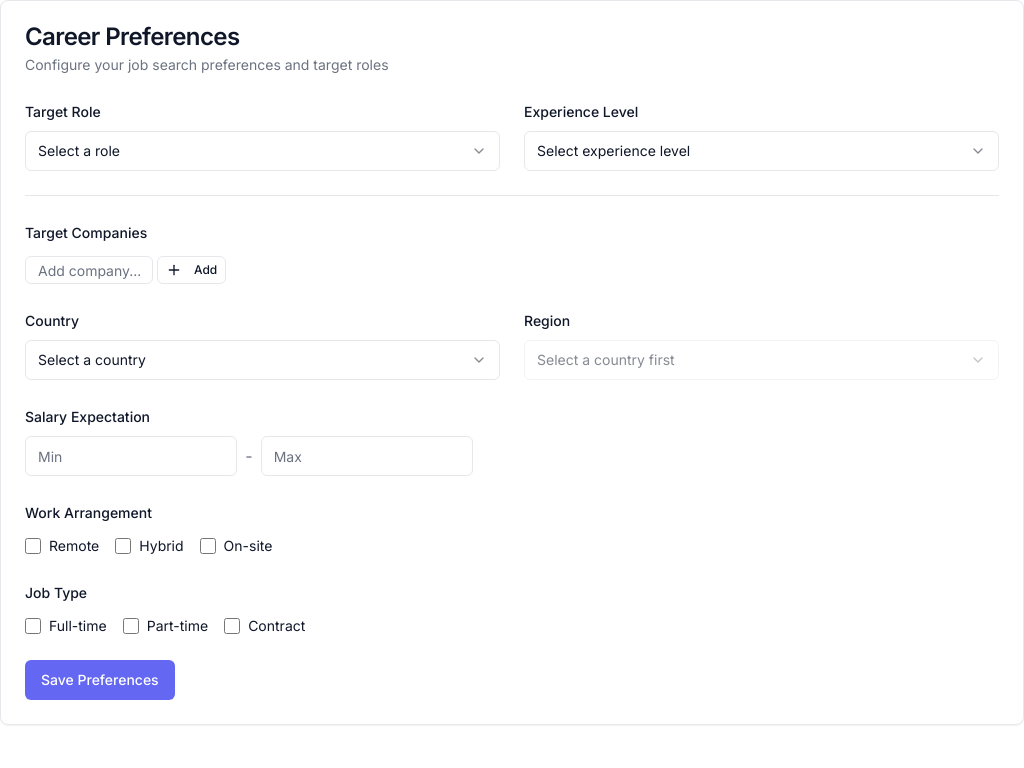
it: CareerPreferencesTab - salary validation › should show an error when salaryMin exceeds salaryMax
Type "90000" into the number field with placeholder "Min".
click(131, 456); type("90000")  # box [25,436,237,476]
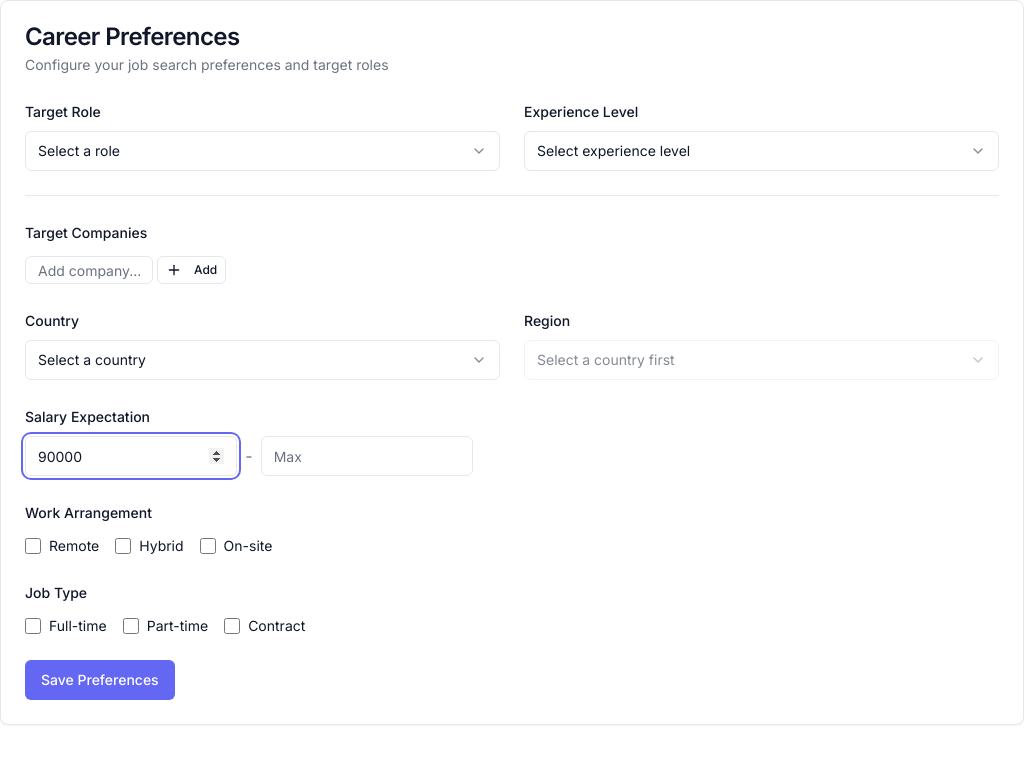
Type "50000" into the number field with placeholder "Max".
click(367, 456); type("50000")  # box [261,436,473,476]
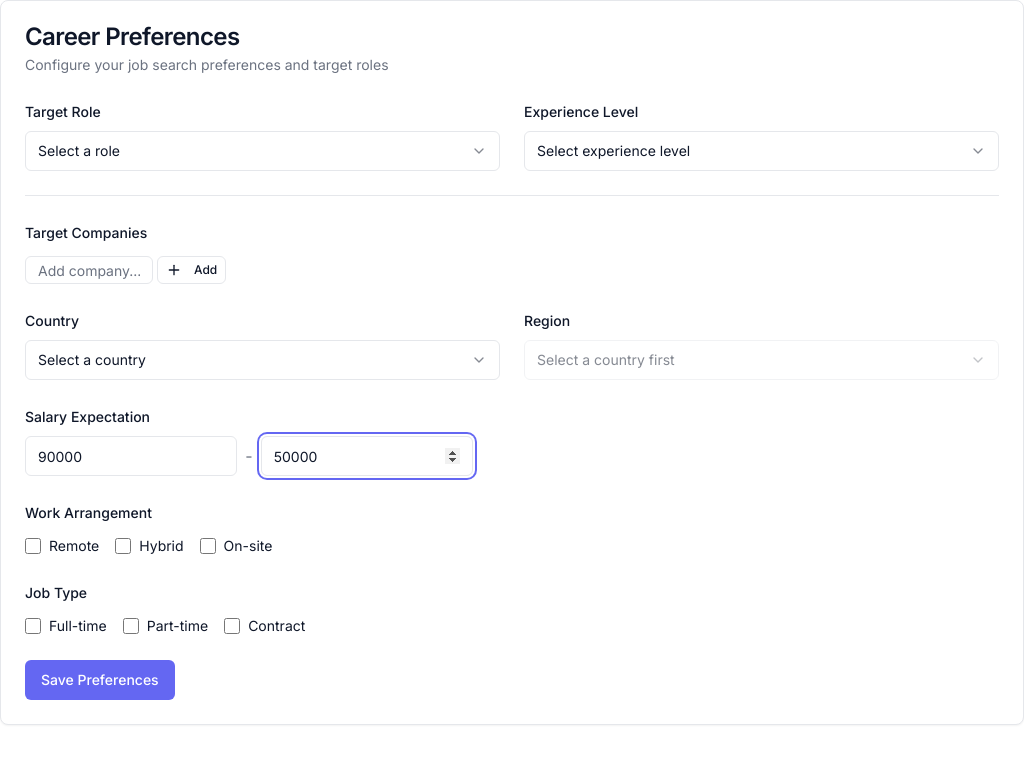
Click the button "Save Preferences".
click(100, 680)  # box [25,660,175,700]
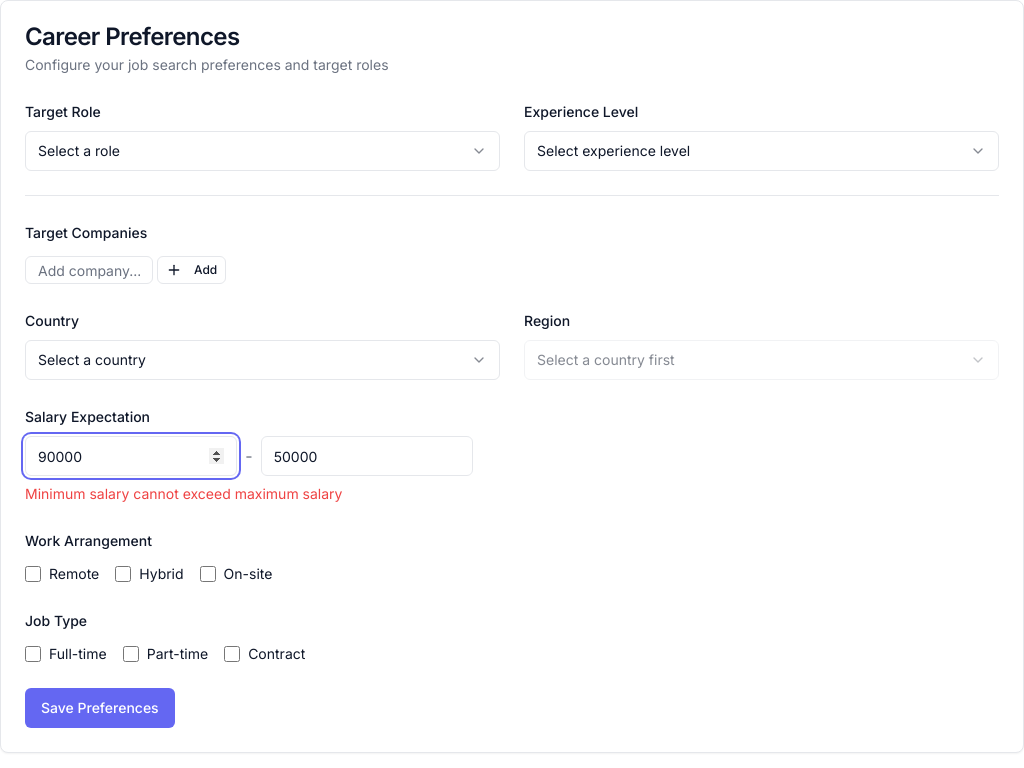
Expected: the text "Minimum salary cannot exceed maximum salary" is shown, [25,485,342,502]
